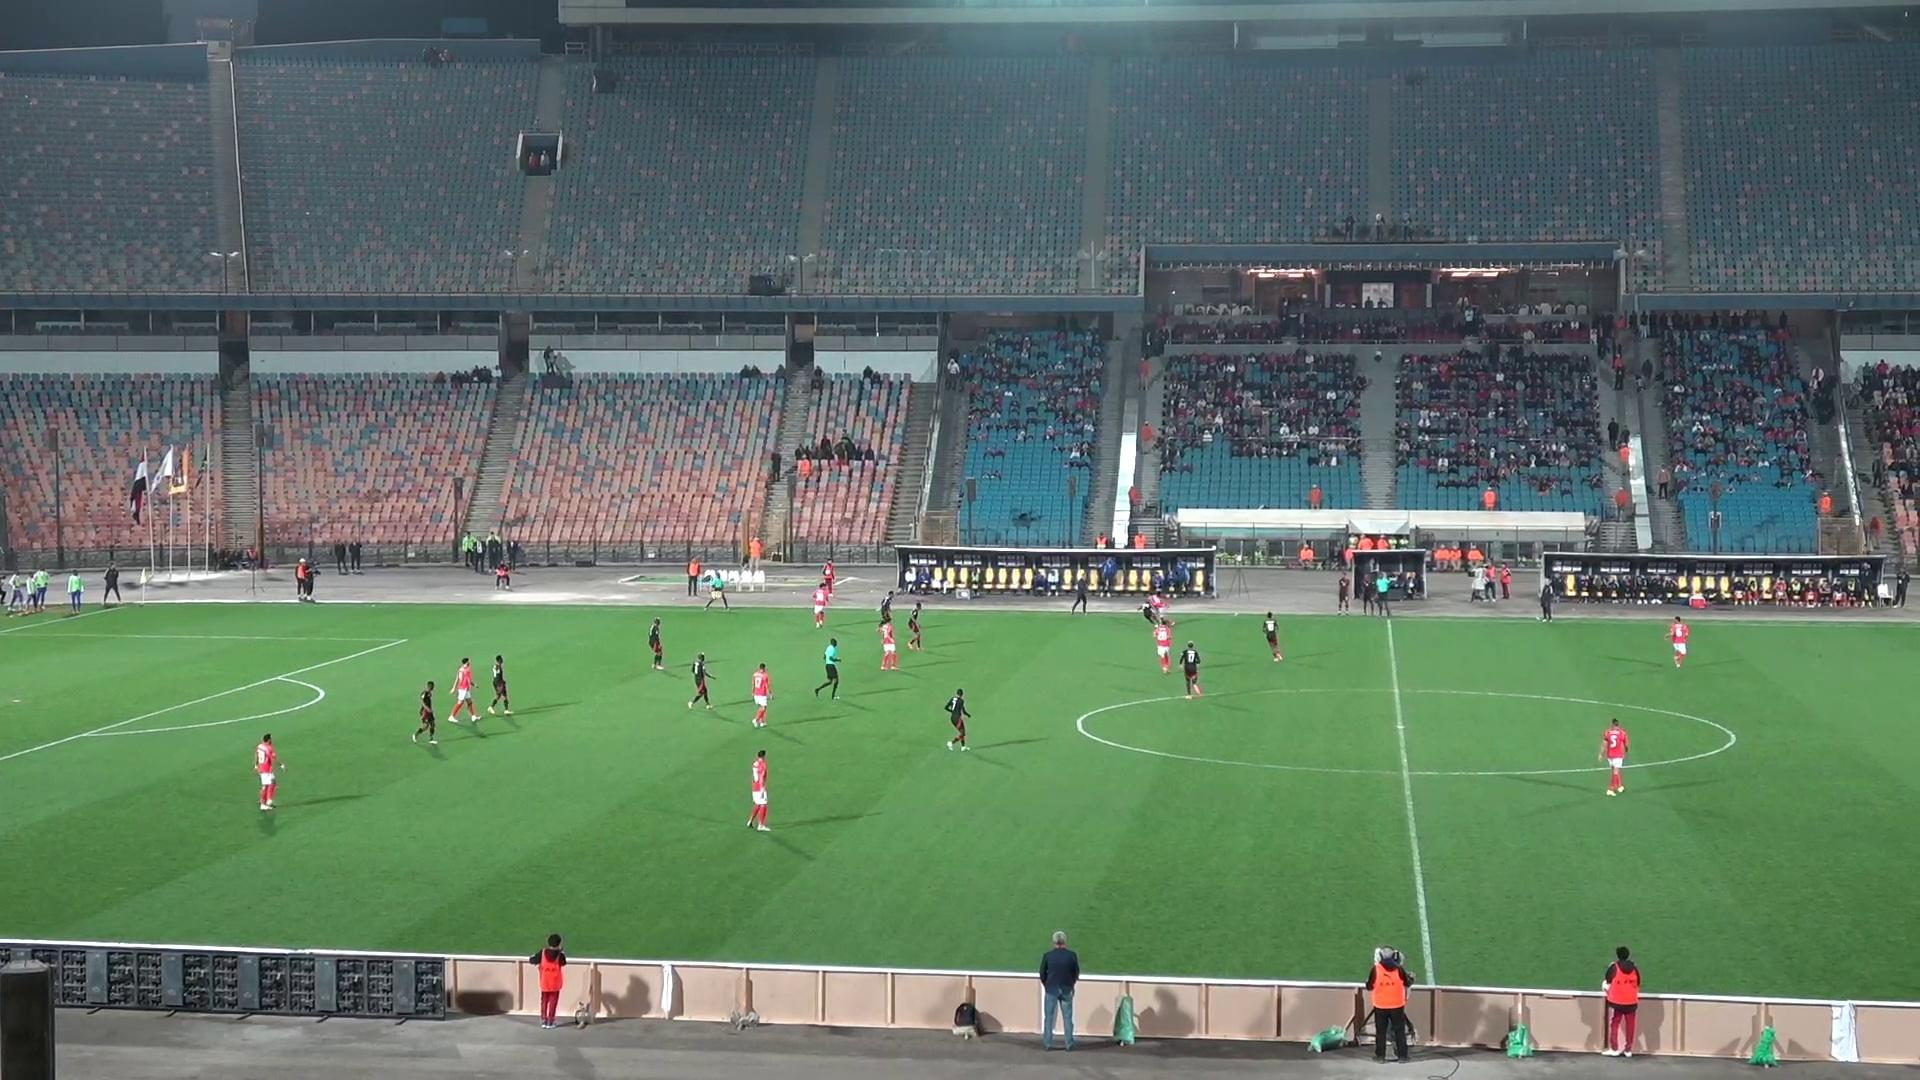Refree: (814, 637, 841, 699), (1369, 568, 1399, 616), (699, 570, 731, 608)
Team1: (1598, 717, 1629, 795), (447, 657, 481, 724), (255, 735, 284, 811), (744, 749, 767, 831), (1153, 617, 1179, 673), (750, 663, 771, 728), (1665, 617, 1691, 667), (878, 618, 899, 670), (812, 582, 833, 628), (1145, 587, 1170, 622)
Team2: (943, 688, 971, 750), (487, 655, 514, 716), (684, 651, 715, 705), (411, 680, 436, 744), (1178, 641, 1204, 698), (1261, 611, 1284, 662), (647, 617, 665, 670), (907, 600, 924, 650), (877, 591, 895, 626), (1139, 599, 1156, 622)
